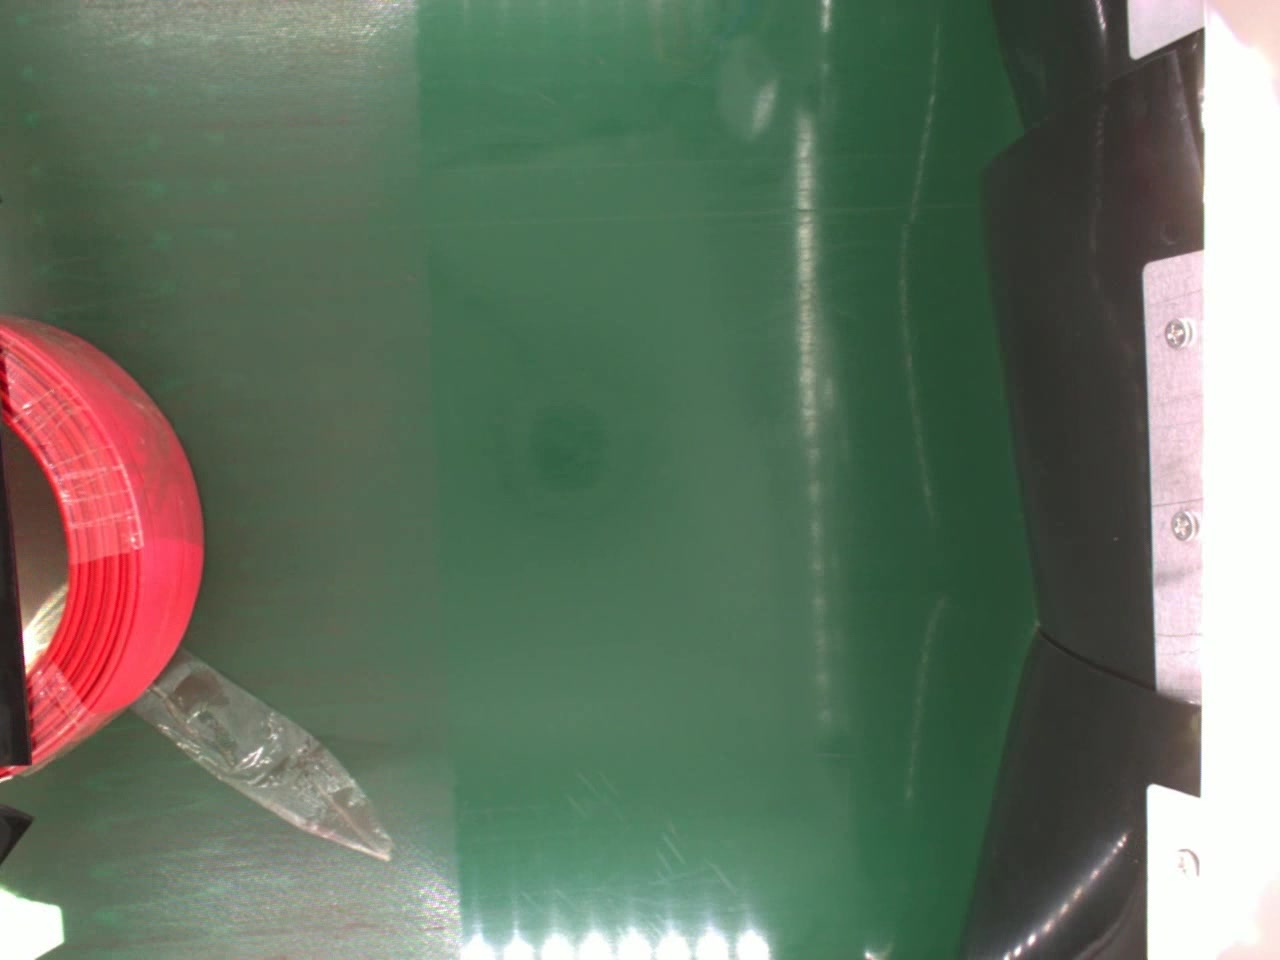red: (0, 307, 202, 781)
